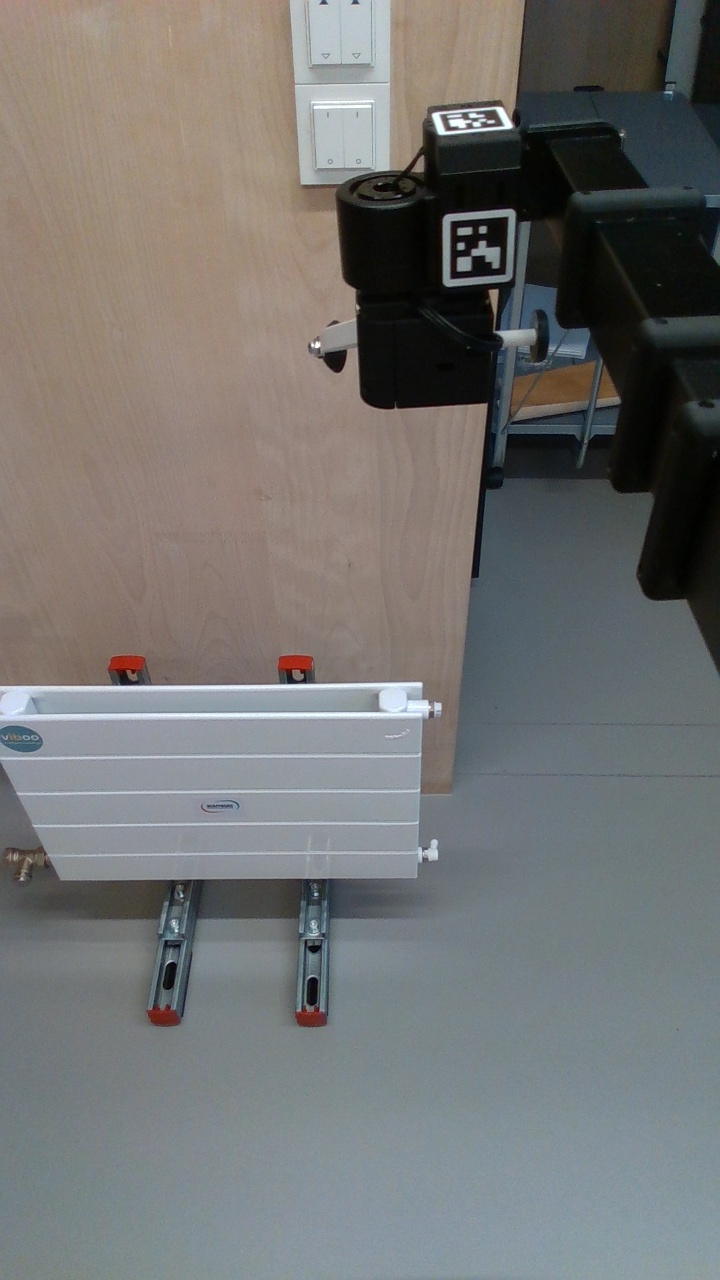Light_Switch: (298, 83, 387, 180), (290, 1, 386, 80)
Radiator: (1, 674, 435, 886)
